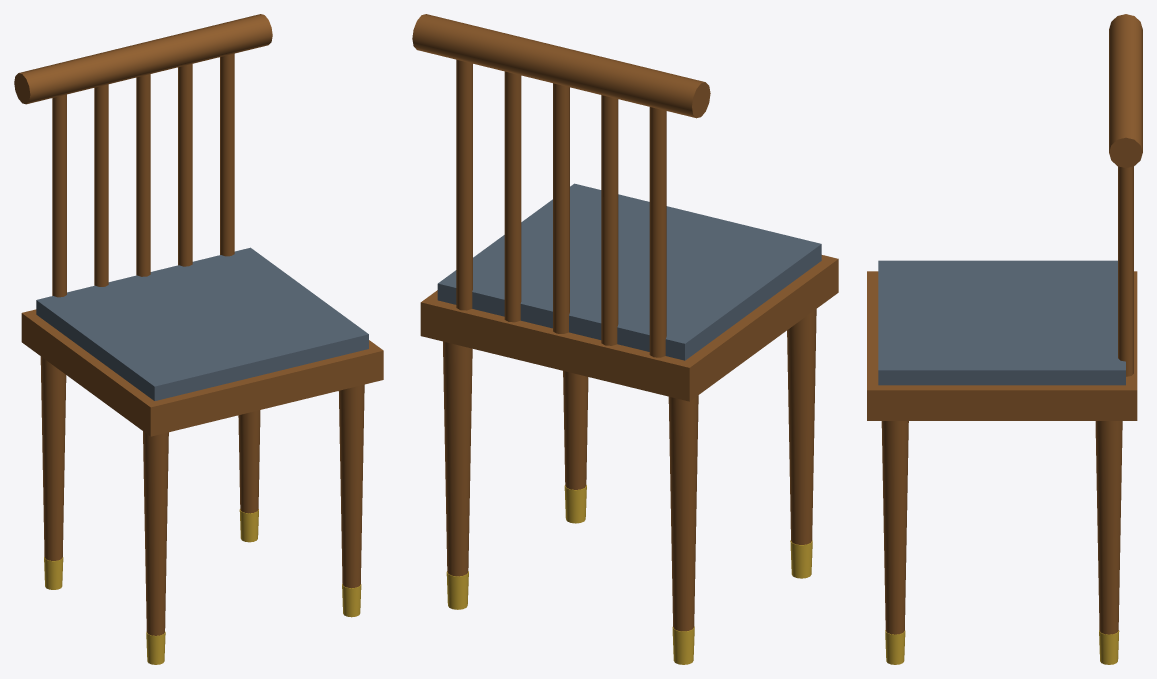
File: dining-chair.glb
3 renders of one model, left to right at view 1: azimuth 30°, elevation 25°; view 2: azimuth 150°, elevation 25°; view 3: azimuth 270°, elevation 25°, orthographic. The views are drawn at different scales.
Visible parts, largest first — view 1: DiningChair, accessory_seat_pad, seat; view 2: DiningChair, accessory_seat_pad, seat; view 3: accessory_seat_pad, DiningChair, seat.
Boxes of the visible parts, box(x1,y1,x2,y2) form: DiningChair: box(14, 14, 364, 664); accessory_seat_pad: box(36, 247, 368, 400); seat: box(21, 309, 383, 436); DiningChair: box(412, 14, 816, 664); accessory_seat_pad: box(437, 183, 821, 360); seat: box(420, 255, 838, 401); accessory_seat_pad: box(878, 260, 1125, 385); DiningChair: box(881, 14, 1142, 664); seat: box(867, 271, 1137, 420).
Size of the model in its own units: 0.52 by 1.05 by 0.49.
